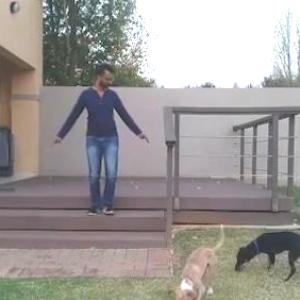land: (59, 66, 146, 229)
